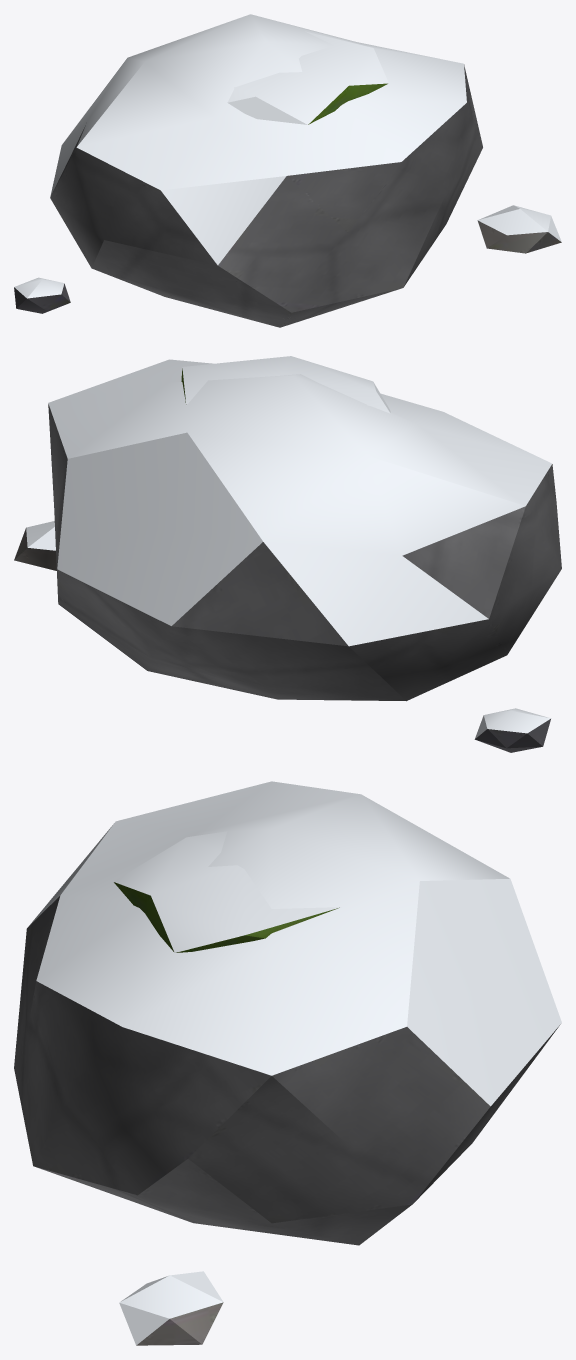
File: bg_snow_rock_1_lod0.glb
3 renders of one model, top to bottom at view 1: azimuth 30°, elevation 25°; view 2: azimuth 150°, elevation 25°; view 3: azimuth 270°, elevation 25°, orthographic. The views are drawn at different scales.
Parts seen in each view (by area): view 1: body; view 2: body; view 3: body.
Part boxes in pixels (x1,y1,x2,y2): body: (14,14,561,327); body: (14,356,561,752); body: (14,781,561,1345).
Size of the model in its own units: 2.29 by 1.2 by 1.54.
Materials: 2 (1 with a texture image).
